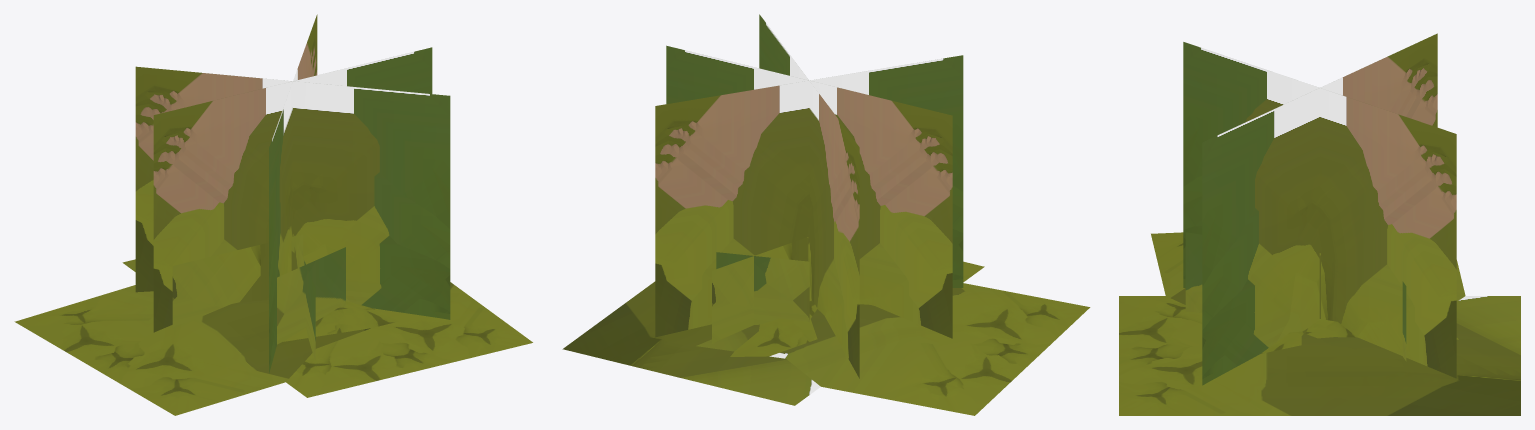
The model's file is SM_Env_Ground_Cover_04.fbx.
3 renders of one model, left to right at view 1: azimuth 30°, elevation 25°; view 2: azimuth 150°, elevation 25°; view 3: azimuth 270°, elevation 25°, orthographic. The views are drawn at different scales.
Parts seen in each view (by area): view 1: SM_Env_Ground_Cover_04; view 2: SM_Env_Ground_Cover_04; view 3: SM_Env_Ground_Cover_04.
Part boxes in pixels (<box>): SM_Env_Ground_Cover_04: <box>14,14,532,415</box>; SM_Env_Ground_Cover_04: <box>562,14,1090,415</box>; SM_Env_Ground_Cover_04: <box>1119,33,1520,415</box>.
Bounding box in the file's own units: 165 × 98.85 × 144.
